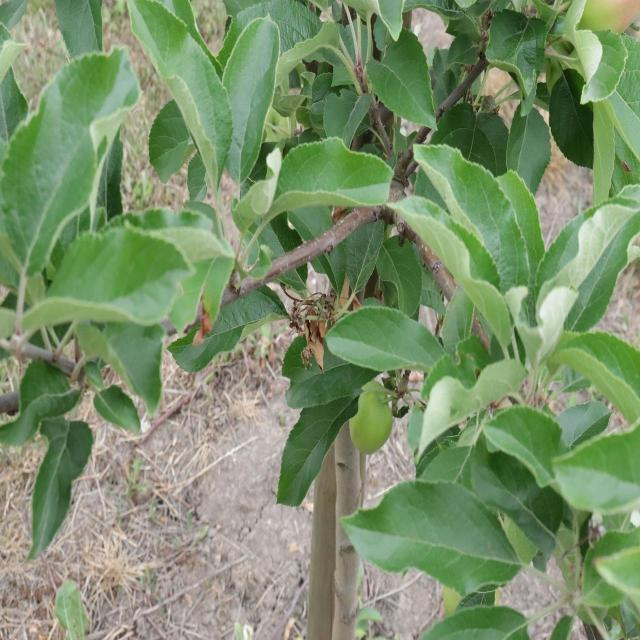-FireBlight-: (285, 299, 330, 368)
